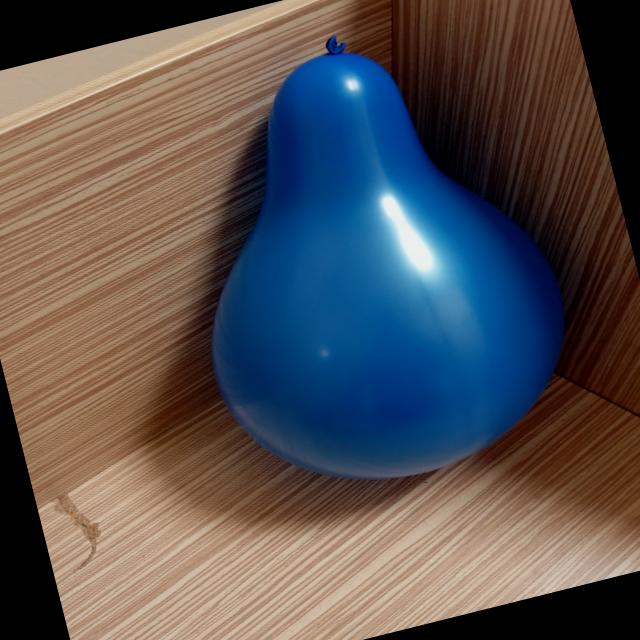balloon: (212, 38, 564, 478)
